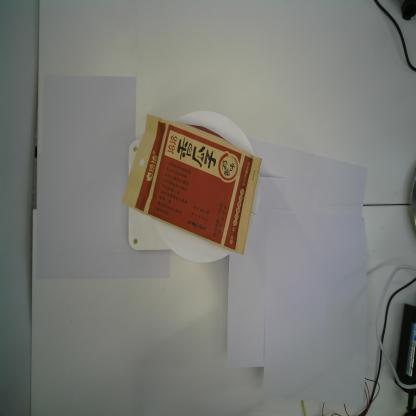Dried Food: (119, 112, 264, 259)
